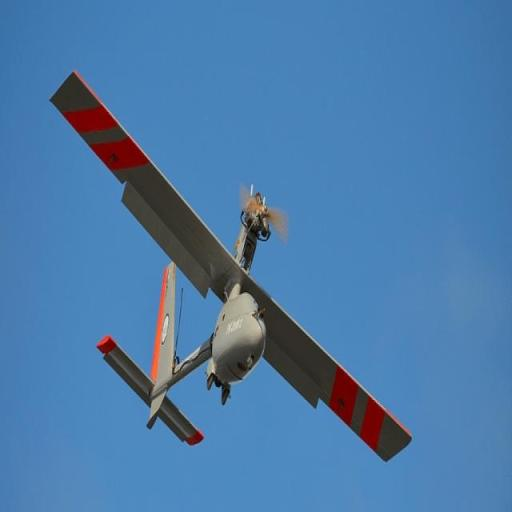uav: (38, 40, 421, 504)
